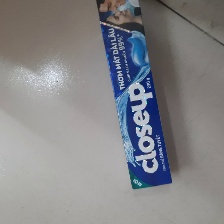CloseUp Tuyet: (94, 1, 174, 190)
